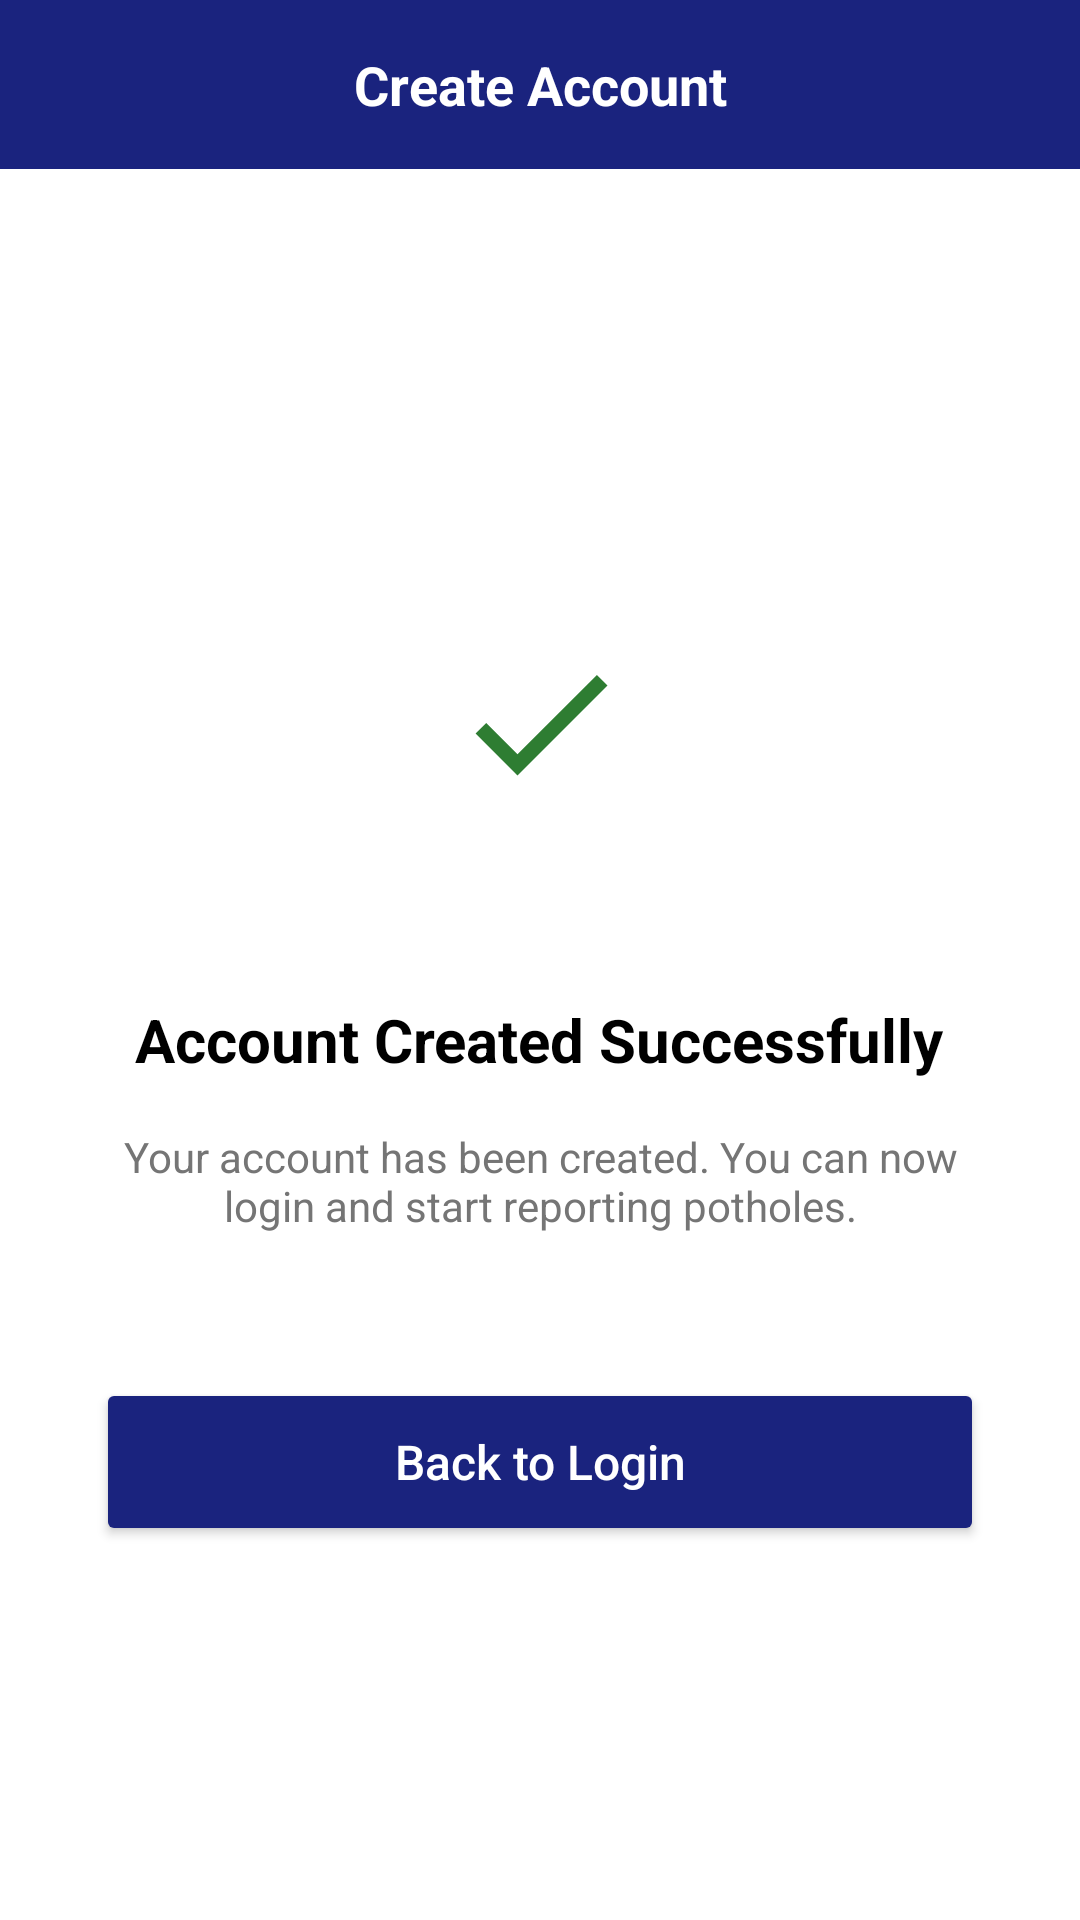

Where to tap for icons on this 1080 x 1920 app screen, as (x,y):
check: (541,725)
